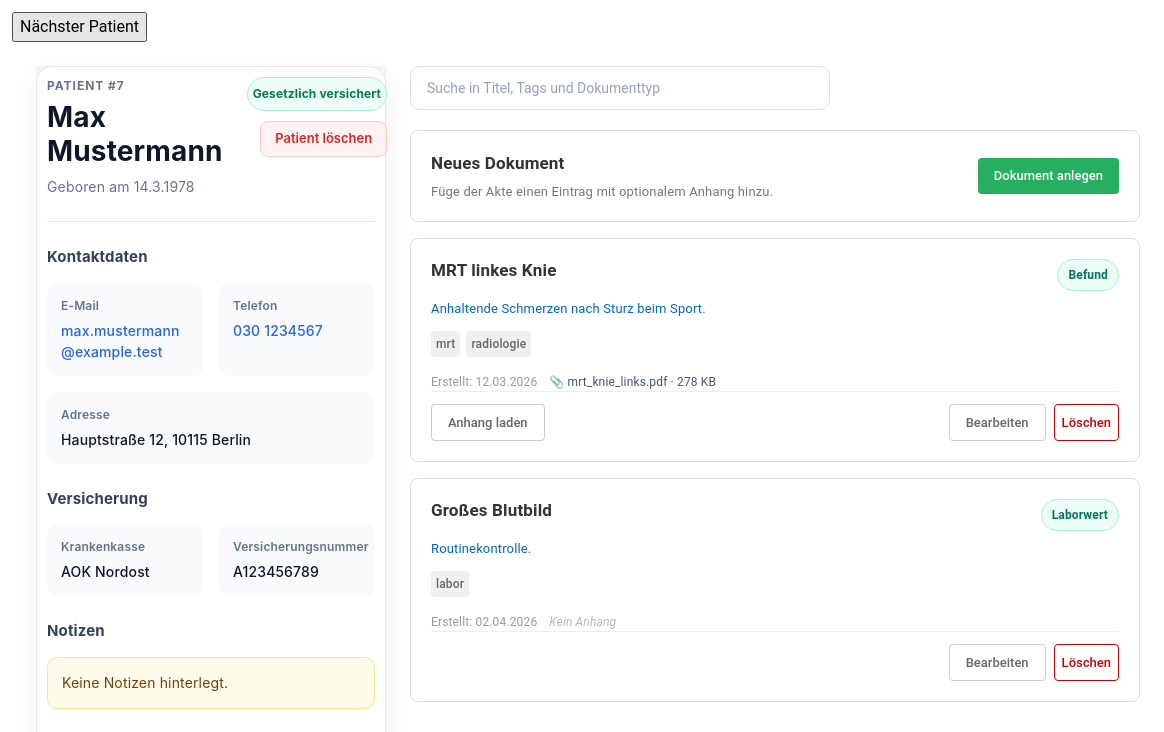
Test: PatientDetailPage › filtert die Dokumente nach Titel, Tags und Dokumenttyp
Type "radiologie" into the field labelled "Suche in Titel, Tags und Dokumenttyp". click: (620, 88)
box: [410, 66, 830, 110]
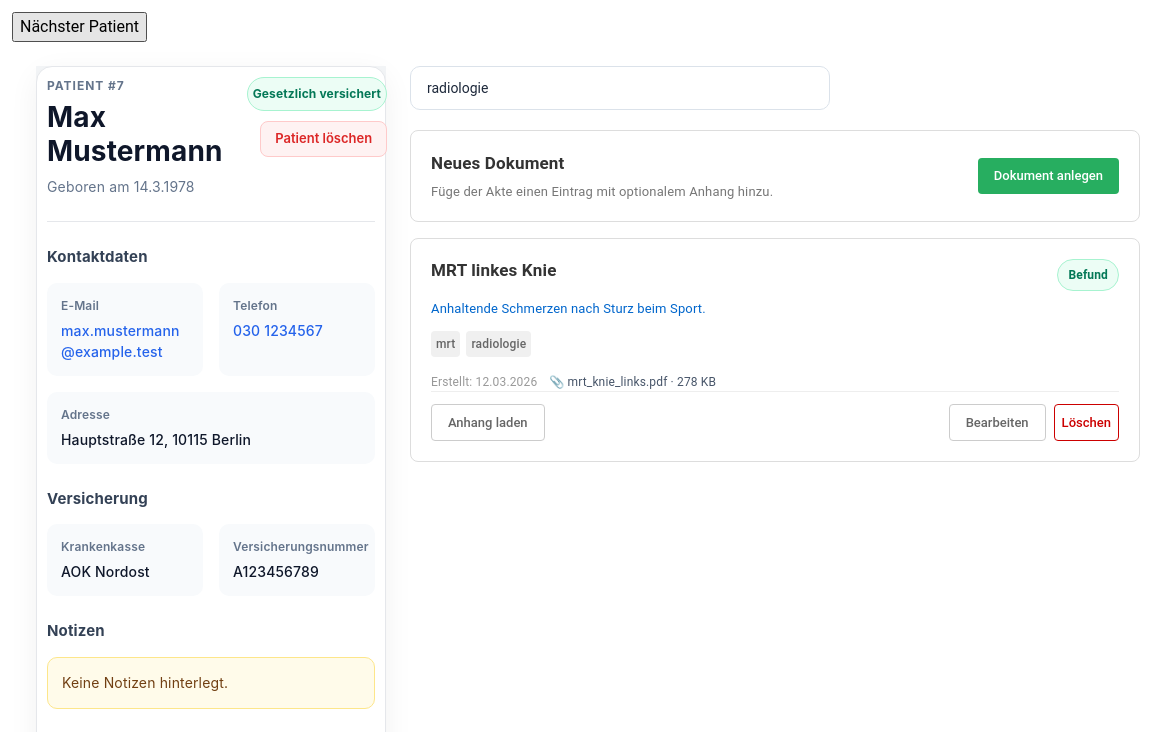
Expected: the heading "MRT linkes Knie" is shown, [431, 259, 556, 281]
Expected: the heading "Großes Blutbild" is gone
Replace the text in the field named "Suche in Titel, Tags und Dokumenttyp" with "laborwert". click: (620, 88)
box: [410, 66, 830, 110]
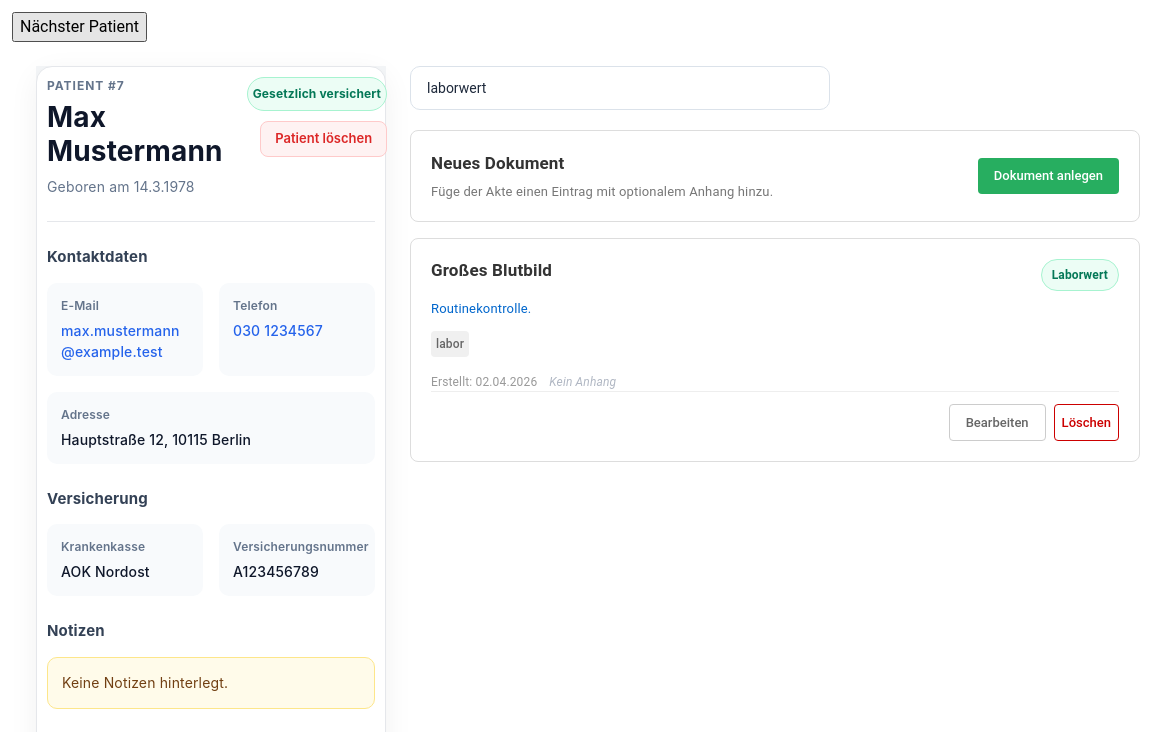
Expected: the heading "Großes Blutbild" is shown, [431, 259, 552, 281]
Expected: the heading "MRT linkes Knie" is gone
